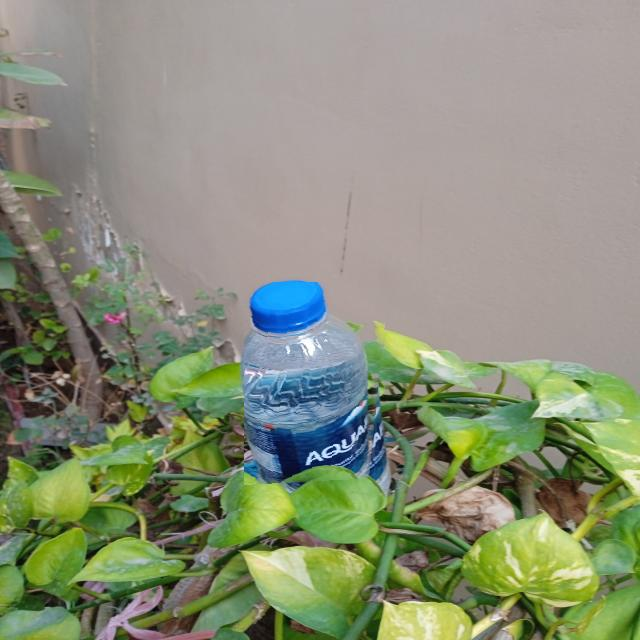Plastic: (244, 282, 390, 486)
